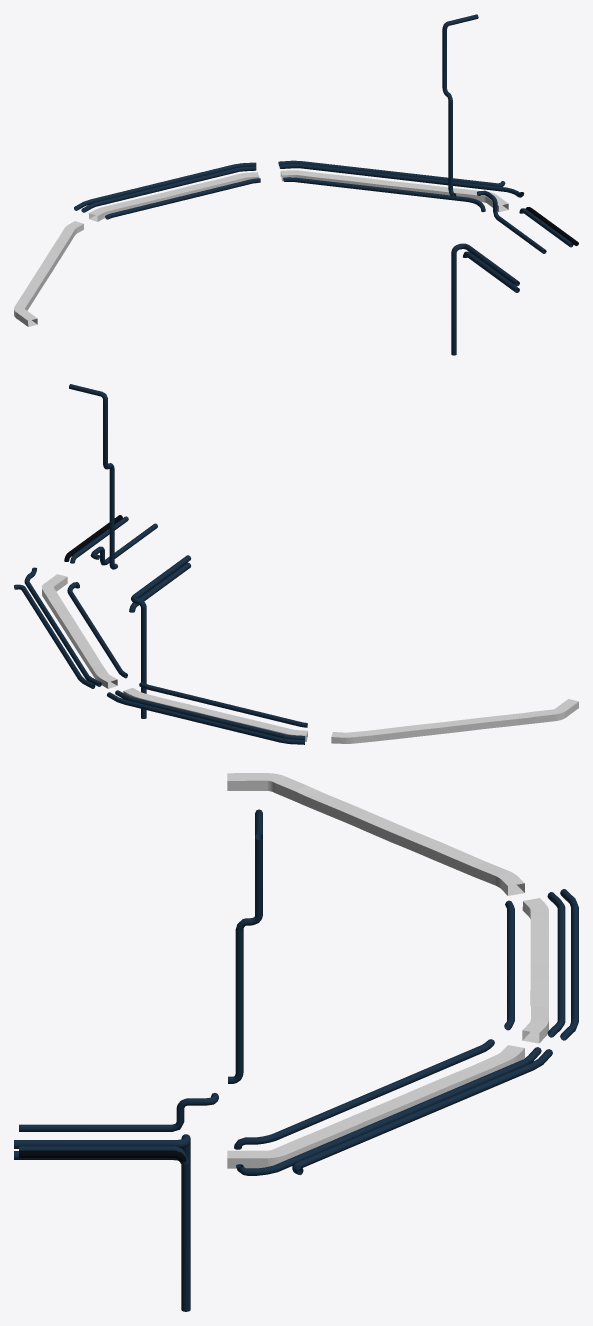
The model's file is SM_H_Building_Tide_DeepJail_01d_ATLAS.fbx.
The picture shows the model from 3 angles, top to bottom: view 1: azimuth 30°, elevation 25°; view 2: azimuth 150°, elevation 25°; view 3: azimuth 270°, elevation 25°; orthographic projection. The views are drawn at different scales.
Visible parts, largest first — view 1: SM_H_Building_Tide_DeepJail_01d_ATLAS_LOD0; view 2: SM_H_Building_Tide_DeepJail_01d_ATLAS_LOD0; view 3: SM_H_Building_Tide_DeepJail_01d_ATLAS_LOD0.
Part boxes in pixels (x1,y1,x2,y2): SM_H_Building_Tide_DeepJail_01d_ATLAS_LOD0: (14, 14, 578, 355); SM_H_Building_Tide_DeepJail_01d_ATLAS_LOD0: (14, 384, 578, 744); SM_H_Building_Tide_DeepJail_01d_ATLAS_LOD0: (14, 773, 578, 1311).
Size of the model in its own units: 5571 by 3322 by 3329.
